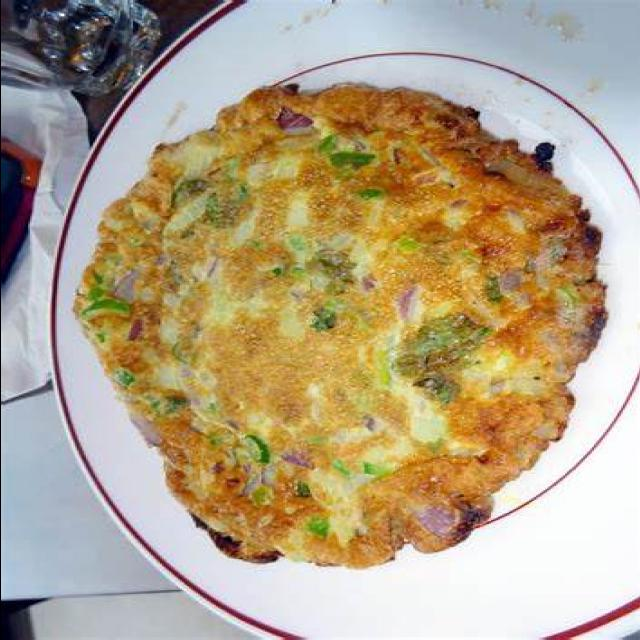telur dadar: (74, 80, 611, 571)
